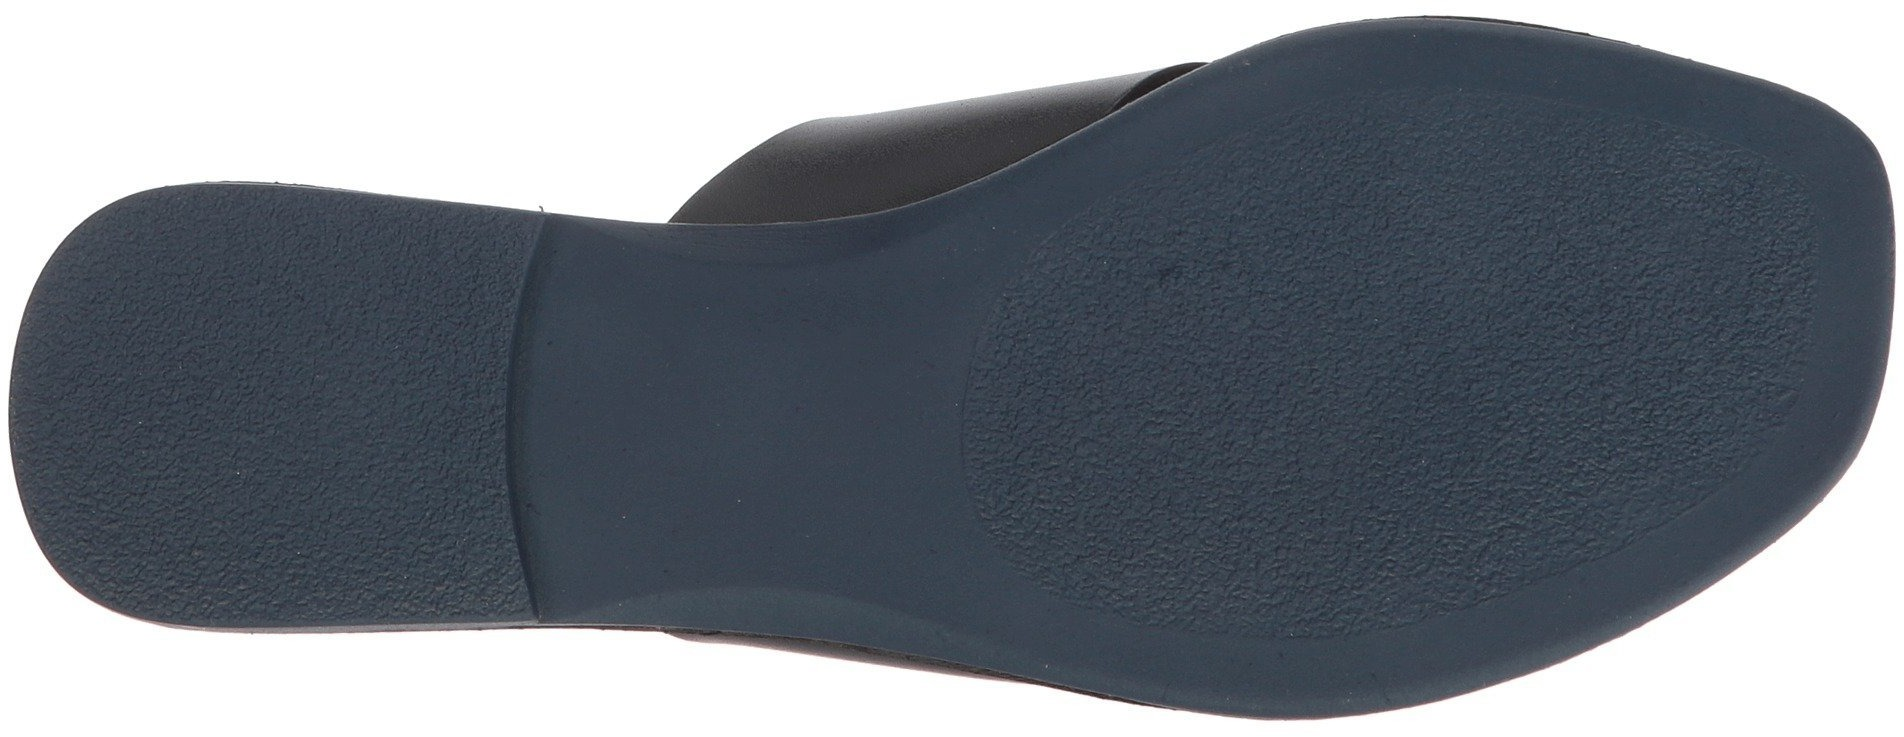exclude: (509, 211, 695, 684)
other: (1247, 136, 1498, 382), (1001, 293, 1242, 522), (1511, 134, 1736, 376), (701, 266, 956, 481), (277, 204, 499, 433), (1252, 387, 1481, 599), (49, 287, 254, 472), (265, 442, 444, 613), (1489, 389, 1651, 542), (765, 487, 919, 622), (1126, 177, 1239, 280)
